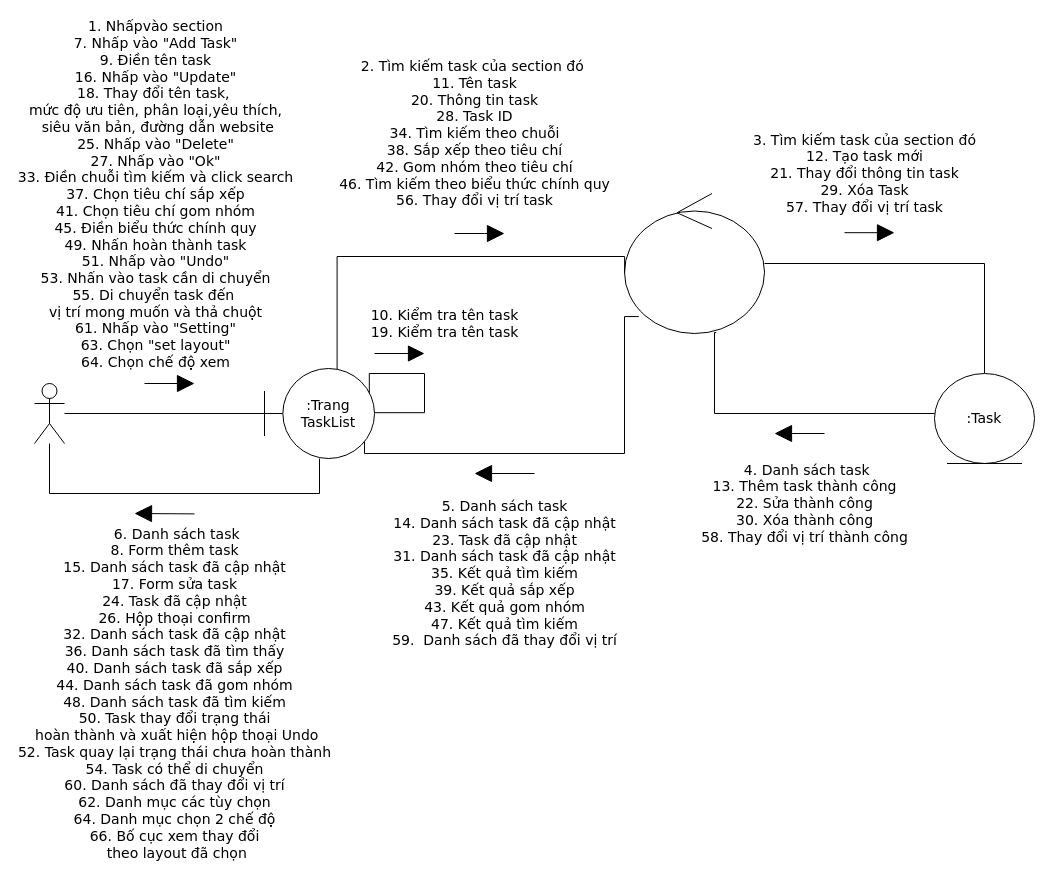
Some shapes in this 1052 by 879 pixel diagram are drawn without their labels. Here are the shapes that lost their labels. From the top down, the box of each, then its label:
(624, 192, 764, 334): :TaskListController
(34, 382, 64, 444): :User
